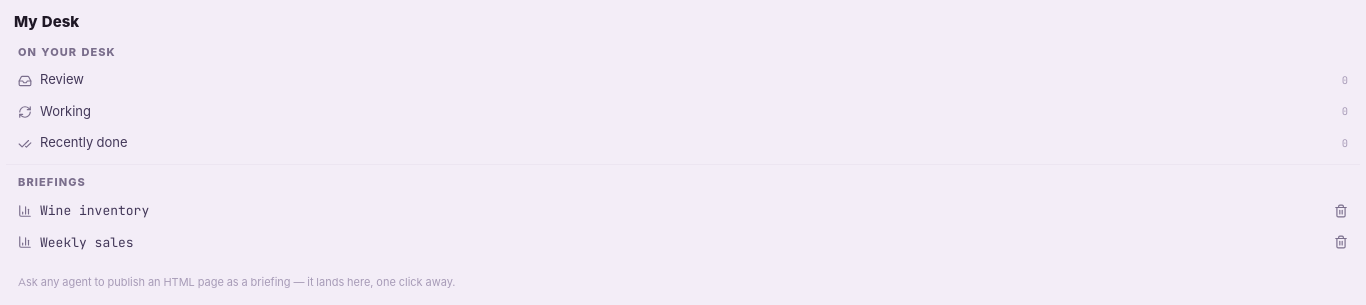
Test: the delete control on a briefing row › confirming deletes that slug and the row goes
The width and height of the screenshot is (1366, 305).
Expected: the text "Wine inventory" is shown, [40,202,149,219]
Click the button named "Delete briefing \"Wine inventory\"" at x=1341, y=211, box [1330,200,1352,222]
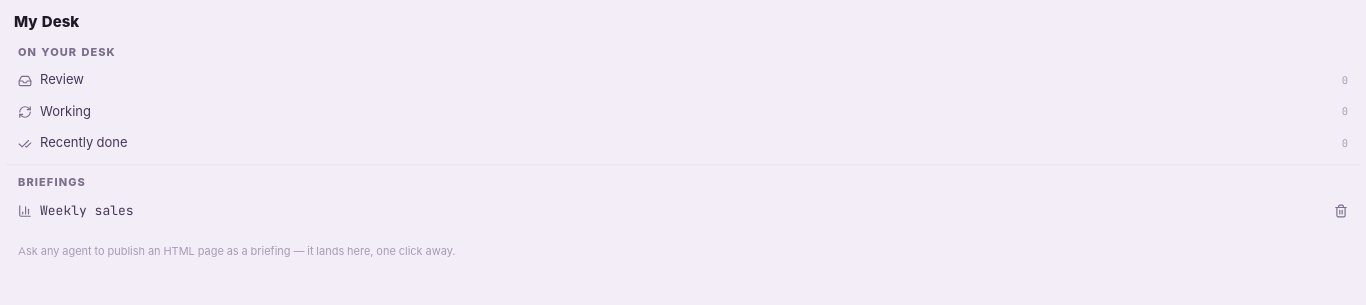
Expected: the text "Weekly sales" is shown, [40,202,134,219]
Expected: the button "Wine inventory" is gone
